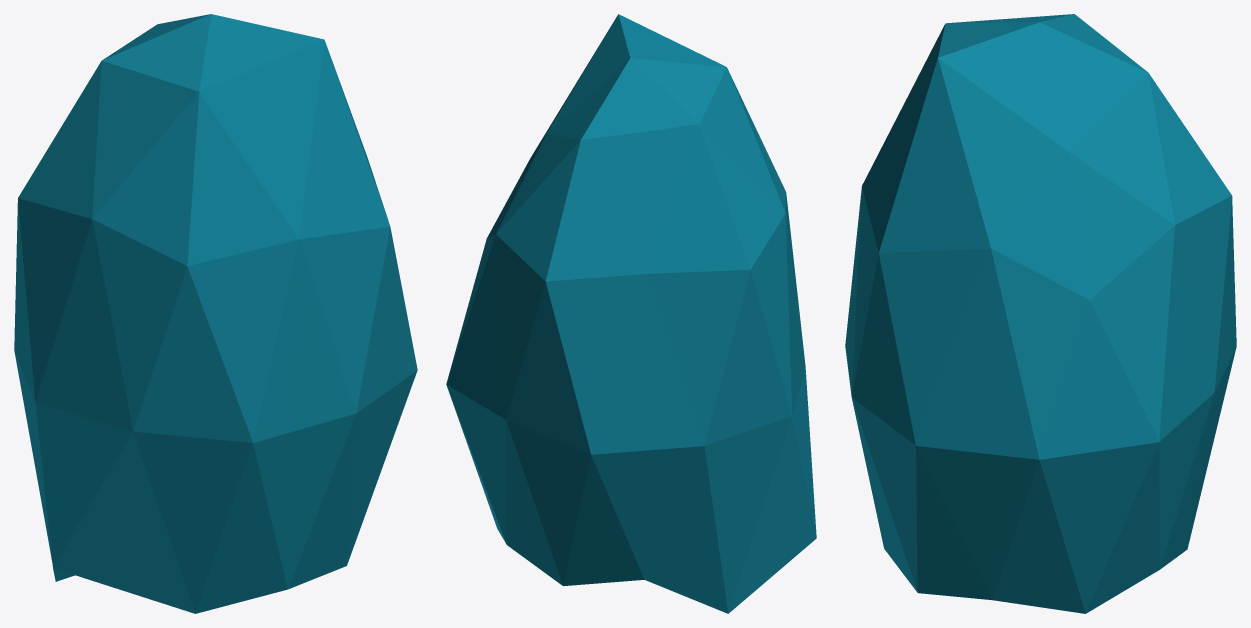
The model's file is Bush_4_summer_blue_mat.fbx.
The picture shows the model from 3 angles, left to right: view 1: azimuth 30°, elevation 25°; view 2: azimuth 150°, elevation 25°; view 3: azimuth 270°, elevation 25°; orthographic projection. The views are drawn at different scales.
Visible parts, largest first — view 1: Bush_4_summer_blue_mat; view 2: Bush_4_summer_blue_mat; view 3: Bush_4_summer_blue_mat.
Boxes of the visible parts, bbox=[...] form: Bush_4_summer_blue_mat: bbox=[14, 14, 417, 613]; Bush_4_summer_blue_mat: bbox=[446, 14, 816, 613]; Bush_4_summer_blue_mat: bbox=[845, 14, 1236, 613].
Size of the model in its own units: 39.09 by 58.1 by 36.72.
